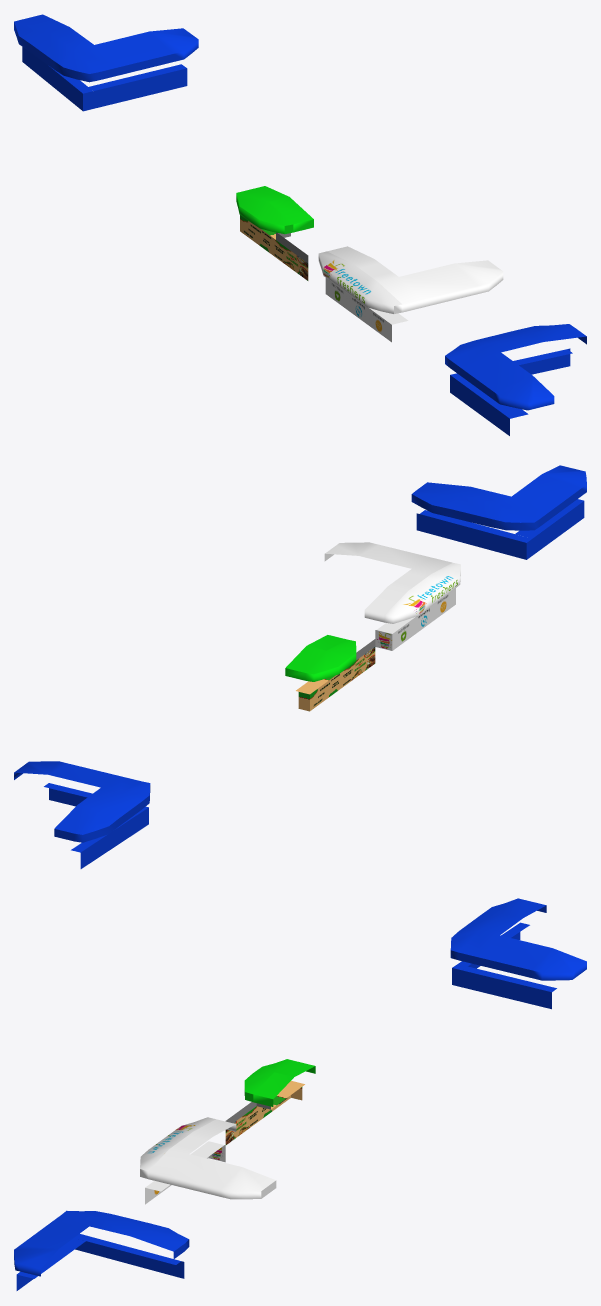
Rendered from mdl_brush_SierraLeone.gltf.
3 renders of one model, top to bottom at view 1: azimuth 30°, elevation 25°; view 2: azimuth 150°, elevation 25°; view 3: azimuth 330°, elevation 25°, orthographic. The views are drawn at different scales.
Parts seen in each view (by area): view 1: Plane.040, Plane.027, Plane.038, Plane.026, Plane.037, Plane.019, Plane.045, Plane.024, Plane.033; view 2: Plane.038, Plane.040, Plane.027, Plane.037, Plane.019, Plane.026, Plane.024, Plane.045, Plane.033; view 3: Plane.040, Plane.027, Plane.038, Plane.026, Plane.037, Plane.019, Plane.024, Plane.045, Plane.033.
Part boxes in pixels (x1,y1,x2,y2): Plane.040: [318, 246, 503, 313]; Plane.027: [14, 14, 198, 82]; Plane.038: [445, 324, 586, 410]; Plane.026: [22, 47, 187, 111]; Plane.037: [450, 348, 572, 435]; Plane.019: [236, 186, 313, 234]; Plane.045: [445, 324, 586, 409]; Plane.024: [240, 215, 308, 280]; Plane.033: [325, 278, 408, 342]; Plane.038: [411, 465, 586, 530]; Plane.040: [324, 542, 460, 623]; Plane.027: [14, 761, 150, 842]; Plane.037: [416, 499, 584, 559]; Plane.019: [285, 635, 356, 681]; Plane.026: [44, 783, 148, 868]; Plane.024: [296, 639, 375, 711]; Plane.045: [411, 467, 586, 530]; Plane.033: [375, 588, 455, 650]; Plane.040: [140, 1117, 276, 1199]; Plane.027: [450, 898, 586, 980]; Plane.038: [14, 1210, 189, 1276]; Plane.026: [452, 922, 556, 1009]; Plane.037: [16, 1233, 184, 1290]; Plane.019: [244, 1059, 315, 1106]; Plane.024: [225, 1081, 304, 1145]; Plane.045: [14, 1211, 188, 1274]; Plane.033: [145, 1141, 225, 1204].
Bounding box in the file's own units: 3.83 × 1.17 × 24.47.
Materials: 5 (2 with a texture image).
